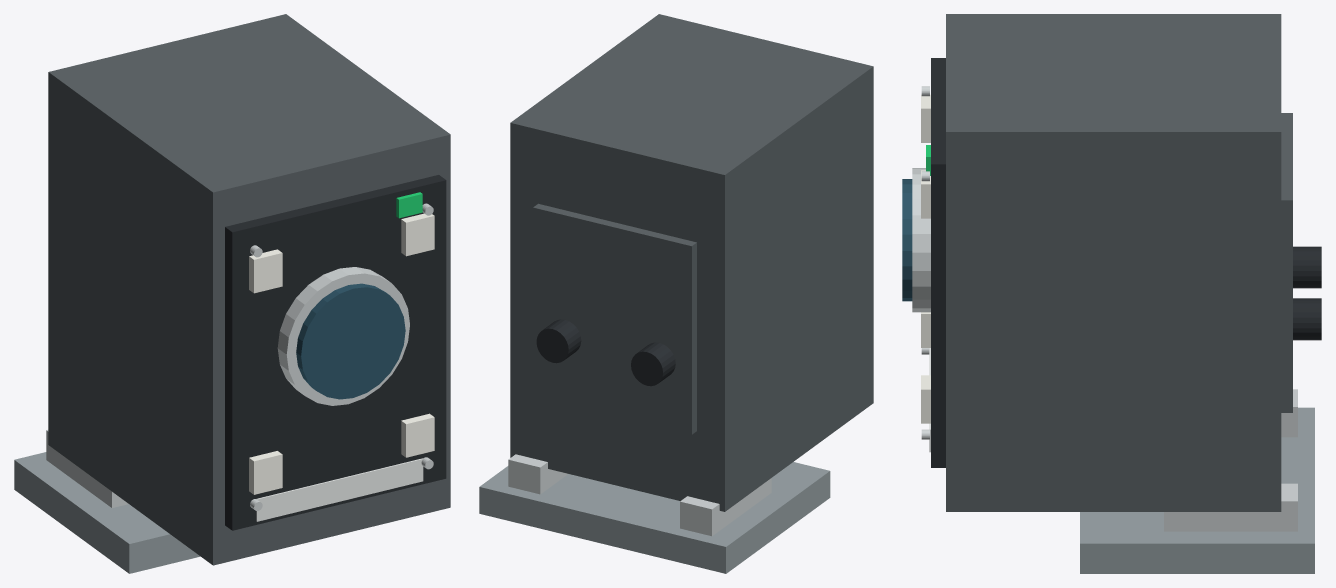
3 renders of one model, left to right at view 1: azimuth 30°, elevation 25°; view 2: azimuth 150°, elevation 25°; view 3: azimuth 270°, elevation 25°, orthographic. The views are drawn at different scales.
Parts seen in each view (by area): view 1: housing, front bezel, optical lens, Mount bracket, lens surround, front branding panel, mounting flange, illumination emitter, illumination emitter.002, illumination emitter.003, illumination emitter.001, status indicator; view 2: housing, Rear connector plate, Mount bracket, mounting flange, mounting flange.001, Electrical connector.001, Electrical connector; view 3: housing, Mount bracket, front bezel, Rear connector plate, mounting flange.001, lens surround, optical lens, Electrical connector, Electrical connector.001, mounting flange.
Boxes of the visible parts, <box> form: housing: <box>48,14,450,565</box>; front bezel: <box>225,175,446,530</box>; optical lens: <box>296,283,405,399</box>; Mount bracket: <box>14,452,200,573</box>; lens surround: <box>277,267,409,405</box>; front branding panel: <box>256,458,423,521</box>; mounting flange: <box>46,430,128,507</box>; illumination emitter: <box>249,451,282,494</box>; illumination emitter.002: <box>401,413,434,457</box>; illumination emitter.003: <box>401,213,434,256</box>; illumination emitter.001: <box>249,249,282,293</box>; status indicator: <box>396,192,422,218</box>; housing: <box>510,14,873,511</box>; Rear connector plate: <box>533,203,696,434</box>; Mount bracket: <box>479,462,830,573</box>; mounting flange: <box>680,478,771,536</box>; mounting flange.001: <box>508,454,567,494</box>; Electrical connector.001: <box>536,319,581,363</box>; Electrical connector: <box>631,342,675,386</box>; housing: <box>946,14,1281,511</box>; Mount bracket: <box>1080,407,1314,573</box>; front bezel: <box>931,58,945,467</box>; Rear connector plate: <box>1281,113,1292,412</box>; mounting flange.001: <box>1164,483,1297,531</box>; lens surround: <box>912,168,930,312</box>; optical lens: <box>902,179,912,301</box>; Electrical connector: <box>1293,246,1321,288</box>; Electrical connector.001: <box>1293,298,1321,340</box>; mounting flange: <box>1281,389,1297,437</box>.
Size of the model in its own units: 0.0575 by 0.0855 by 0.075.
